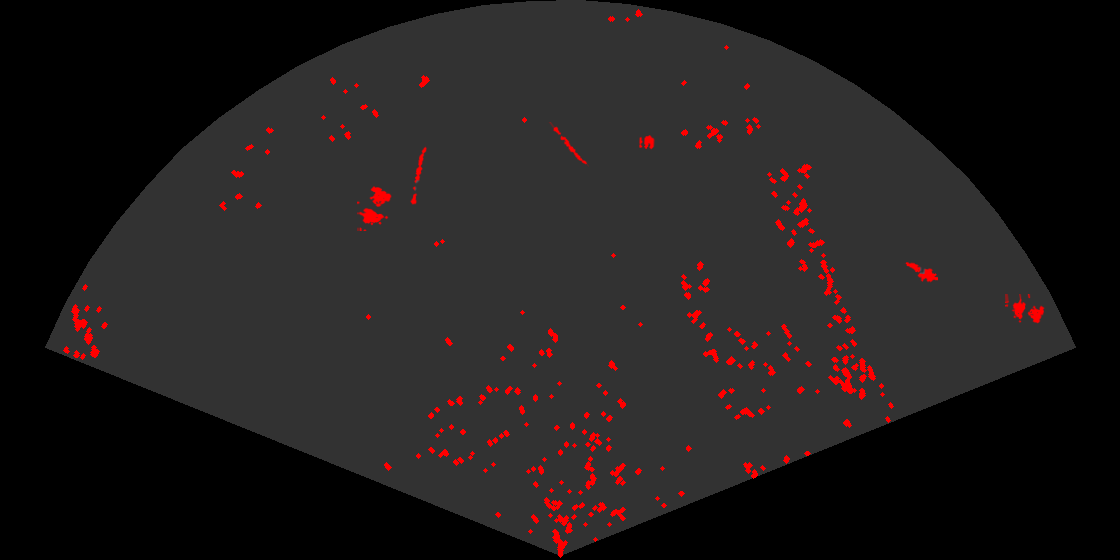ball: (638, 134, 656, 151)
cage: (357, 185, 393, 231), (1005, 294, 1046, 325)
chain: (547, 122, 589, 168), (409, 145, 428, 205)
frogman: (903, 261, 938, 284)
